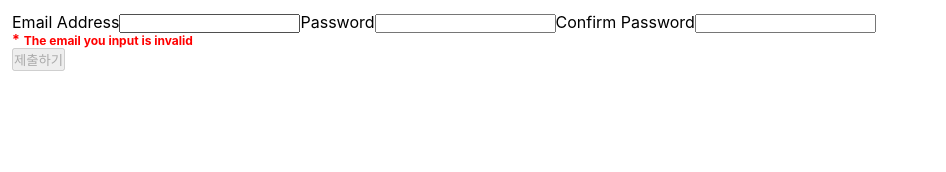
it: Home Testing › Error Handling › should show no error message if every input is valid
In the field labelled "Email Address": (210, 24) [120, 14, 300, 33], type "python@gmail.com"
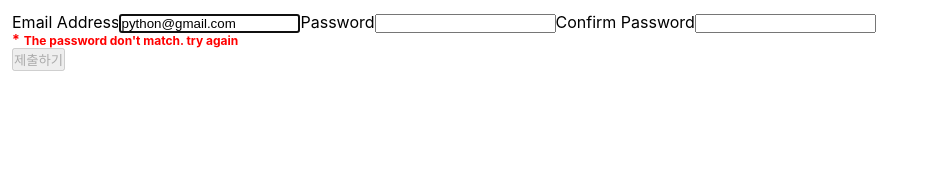
In the password field labelled "Password": (465, 24) [374, 14, 556, 33], type "12345"
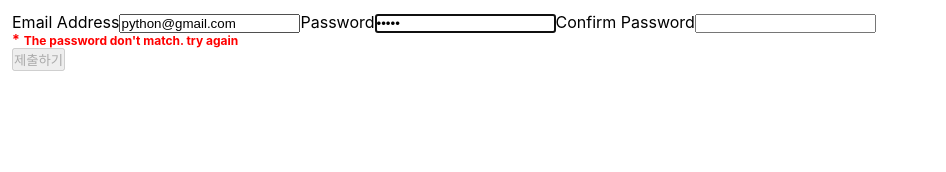
In the password field labelled "Confirm Password": (785, 24) [695, 14, 876, 33], type "12345"
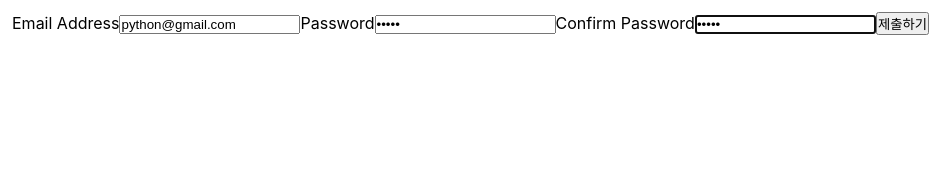
Expected: the text "The password don't match. try again" is gone
